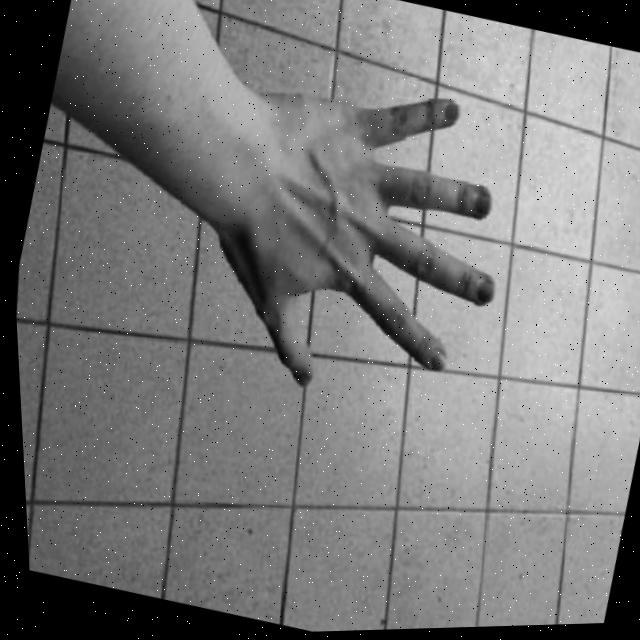hand: (127, 12, 554, 444)
